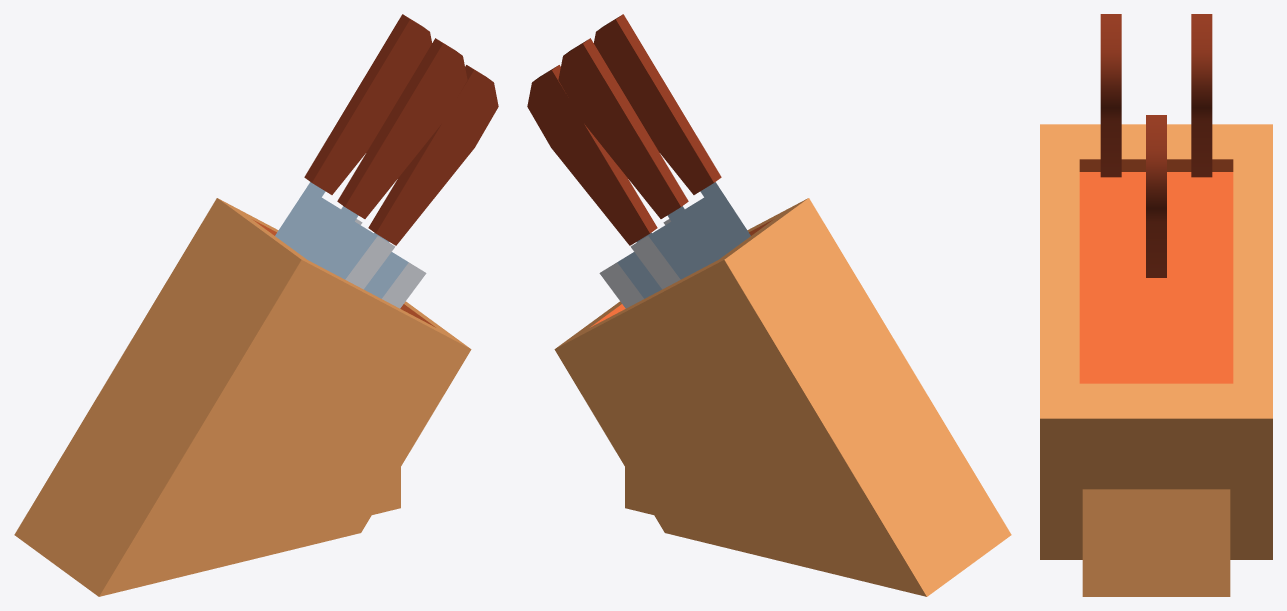
File: knifeBlock.fbx
The picture shows the model from 3 angles, left to right: view 1: azimuth 30°, elevation 25°; view 2: azimuth 150°, elevation 25°; view 3: azimuth 270°, elevation 25°; orthographic projection. The views are drawn at different scales.
Visible parts, largest first — view 1: knifeBlock, cookingKnife (×3); view 2: knifeBlock, cookingKnife (×3); view 3: knifeBlock, cookingKnife (×3).
Boxes of the visible parts, bbox=[...] form: knifeBlock: bbox=[14, 198, 471, 596]; cookingKnife (×3): bbox=[275, 14, 498, 308]; knifeBlock: bbox=[554, 198, 1011, 596]; cookingKnife (×3): bbox=[527, 14, 750, 308]; knifeBlock: bbox=[1040, 124, 1272, 596]; cookingKnife (×3): bbox=[1100, 14, 1212, 277].
Bounding box in the file's own units: 0.6628 × 0.6472 × 0.2218.
